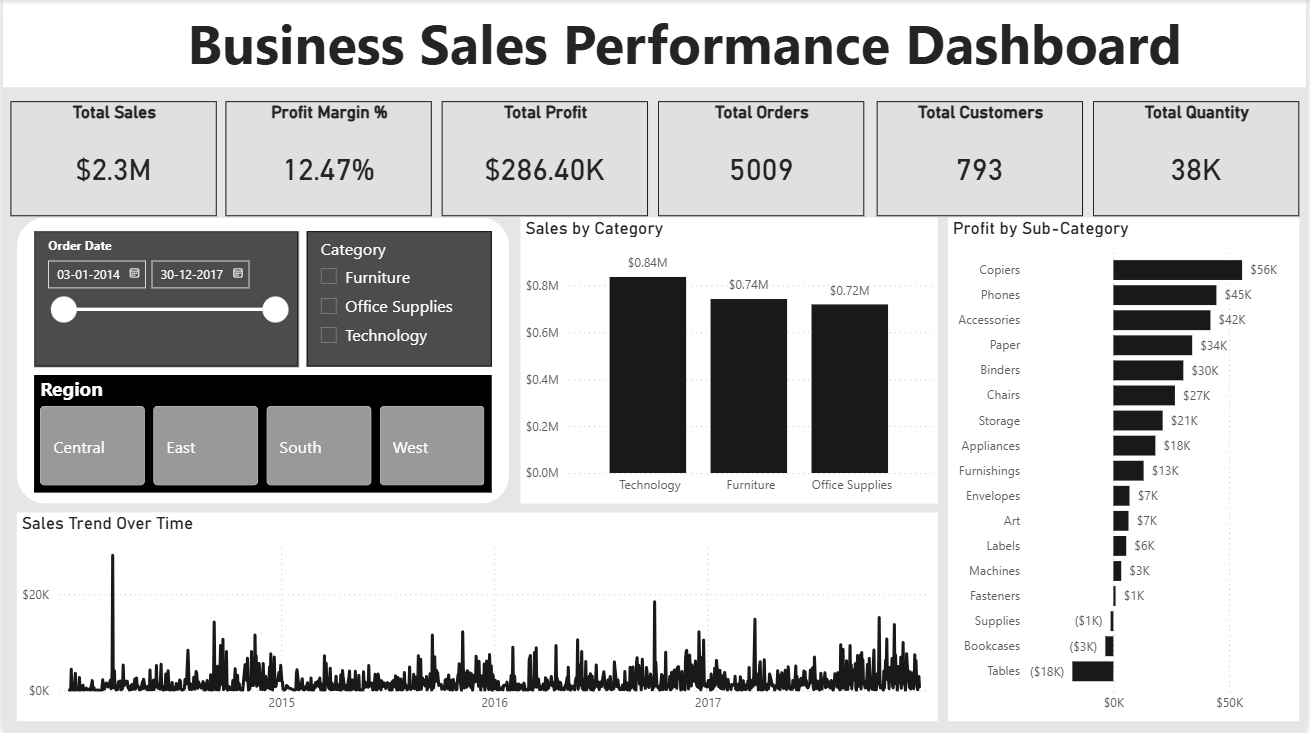

The page's visual inventory and layout, read from the dashboard file:
{"tool":"powerbi","page":{"name":"Page 1","canvas":[1280,720],"ordinal":0},"visuals":[{"type":"clusteredColumnChart","title":"Sales by Category","fields":{"Category":["Orders.Category"],"Y":["Orders.Total Sales"]},"box":[508,213.5,409.8,281],"z":0},{"type":"card","title":"Total Sales","fields":{"Values":["Orders.Total Sales"]},"box":[7.4,99.4,202.5,112.9],"z":1000},{"type":"card","title":"Total Customers","fields":{"Values":["Orders.Total Customers"]},"box":[986.5,292,165.6,88.3],"z":5000},{"type":"textbox","box":[0,0,1279.8,85.9],"z":6000},{"type":"lineChart","title":"Sales Trend Over Time","fields":{"Category":["Orders.Order Date"],"Y":["Orders.Total Sales"]},"box":[13.5,503.1,904.3,204.9],"z":7000},{"type":"clusteredBarChart","title":"Profit by Sub-Category","fields":{"Category":["Orders.Sub-Category"],"Y":["Orders.Total Profit"]},"box":[927.6,213.5,344.8,494.5],"z":8000},{"type":"shape","box":[13.5,213.5,483.4,281],"z":9000},{"type":"slicer","fields":{"Values":["Orders.Category"]},"box":[298.2,227,181.6,132.5],"z":10000},{"type":"slicer","fields":{"Values":["Orders.Order Date"]},"box":[30.7,227,258.9,132.5],"z":11000},{"type":"advancedSlicerVisual","fields":{"Values":["Orders.Region"]},"box":[30.7,368.1,449.1,115.3],"z":12000},{"type":"card","title":"Profit Margin %","fields":{"Values":["Orders.Profit Margin %"]},"box":[218.4,99.4,202.5,112.9],"z":13000},{"type":"card","title":"Total Profit","fields":{"Values":["Orders.Total Profit"]},"box":[430.7,99.4,202.5,112.9],"z":14000},{"type":"card","title":"Total Orders","fields":{"Values":["Orders.Total Orders"]},"box":[642.9,99.4,202.5,112.9],"z":15000},{"type":"card","title":"Total Customers","fields":{"Values":["Orders.Total Customers"]},"box":[857.7,99.4,202.5,112.9],"z":16000},{"type":"card","title":"Total Quantity","fields":{"Values":["Orders.Total Quantity"]},"box":[1069.9,99.4,202.5,112.9],"z":17000}]}

Visuals, with their boxes in screenshot pixels (x1, y1, x2, y2), scaled from the page's 1280x720 canvas onto the 1310x733 screenshot:
"Sales by Category" clusteredColumnChart: pyautogui.locateOnScreen(520, 217, 939, 503)
"Total Sales" card: pyautogui.locateOnScreen(8, 101, 215, 216)
"Total Customers" card: pyautogui.locateOnScreen(1010, 297, 1179, 387)
textbox: pyautogui.locateOnScreen(0, 0, 1309, 87)
"Sales Trend Over Time" lineChart: pyautogui.locateOnScreen(14, 512, 939, 721)
"Profit by Sub-Category" clusteredBarChart: pyautogui.locateOnScreen(949, 217, 1302, 721)
shape: pyautogui.locateOnScreen(14, 217, 509, 503)
slicer - Orders.Category: pyautogui.locateOnScreen(305, 231, 491, 366)
slicer - Orders.Order Date: pyautogui.locateOnScreen(31, 231, 296, 366)
advancedSlicerVisual - Orders.Region: pyautogui.locateOnScreen(31, 375, 491, 492)
"Profit Margin %" card: pyautogui.locateOnScreen(224, 101, 431, 216)
"Total Profit" card: pyautogui.locateOnScreen(441, 101, 648, 216)
"Total Orders" card: pyautogui.locateOnScreen(658, 101, 865, 216)
"Total Customers" card: pyautogui.locateOnScreen(878, 101, 1085, 216)
"Total Quantity" card: pyautogui.locateOnScreen(1095, 101, 1302, 216)
